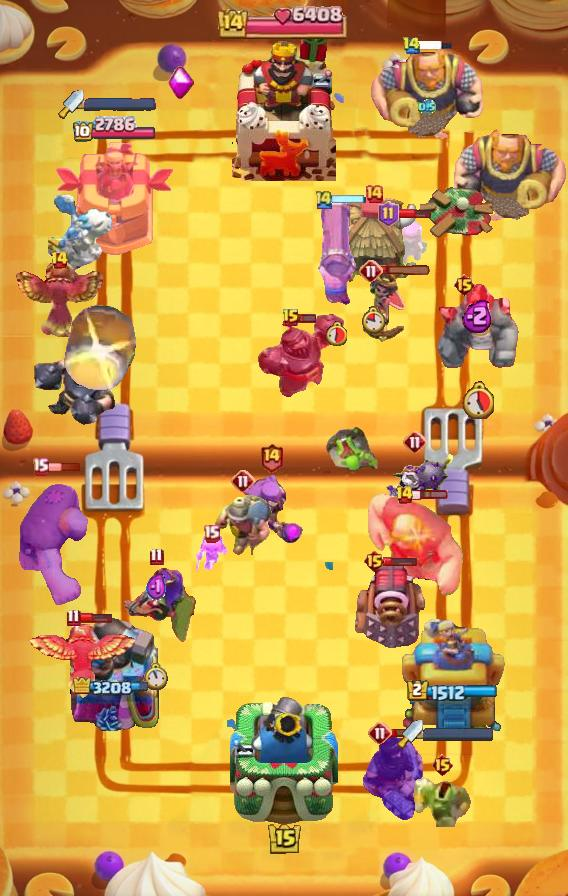balloon: (367, 492, 465, 604), (13, 468, 89, 608)
bandit: (213, 490, 273, 560)
bar: (54, 142, 173, 256), (402, 615, 507, 731)
bar-level: (324, 424, 382, 472)
barbarian-hut: (115, 565, 197, 647)
battle-healer: (313, 202, 359, 306)
bomber-evolution: (362, 268, 408, 348)
cannoneer-tower: (435, 283, 521, 371)
clock: (217, 5, 351, 39)
dirt: (63, 303, 141, 395)
electro-spirit: (462, 299, 494, 334), (146, 573, 167, 603), (418, 99, 436, 115)
elixir: (462, 381, 494, 419), (362, 306, 386, 334), (144, 663, 168, 691), (325, 322, 347, 347)
emote: (380, 264, 432, 275), (411, 489, 448, 501), (418, 39, 454, 51), (396, 208, 431, 220), (382, 555, 417, 567), (79, 612, 113, 624), (332, 194, 367, 205), (46, 462, 82, 472), (389, 726, 409, 737), (298, 313, 317, 324)
flying-machine: (412, 777, 472, 827)
giant-skeleton: (369, 42, 485, 142), (452, 124, 568, 224)
goblin: (193, 533, 229, 573)
goblin-ball: (373, 452, 457, 522)
golden-knight: (26, 622, 138, 702), (11, 261, 107, 339)
golem: (352, 558, 428, 648)
inferno-dragon: (360, 735, 428, 827)
king-tower: (232, 39, 336, 181), (230, 692, 338, 826)
king-tower-bar: (84, 97, 156, 111), (423, 727, 495, 741)
mini-pekka: (48, 192, 114, 274)
prince: (327, 195, 421, 285)
rascal-girl: (237, 472, 305, 546)
royal-guardian: (255, 314, 347, 400), (30, 343, 118, 429)
selected: (71, 116, 156, 144), (407, 679, 499, 703), (73, 677, 155, 699)
skeleton-king-skill: (168, 66, 194, 100)
text: (259, 443, 284, 474), (359, 259, 383, 283), (403, 430, 427, 454), (231, 469, 255, 493), (368, 721, 392, 745), (430, 753, 454, 777), (452, 273, 475, 297), (363, 549, 386, 573), (378, 201, 399, 227), (314, 189, 334, 210), (364, 184, 384, 204), (402, 36, 422, 55), (51, 250, 70, 270), (395, 485, 414, 505), (282, 308, 300, 328), (32, 456, 49, 475), (203, 525, 220, 543), (67, 609, 82, 627), (149, 547, 163, 566)
tombstone: (382, 214, 427, 264)
tower-bar: (68, 611, 160, 731)
